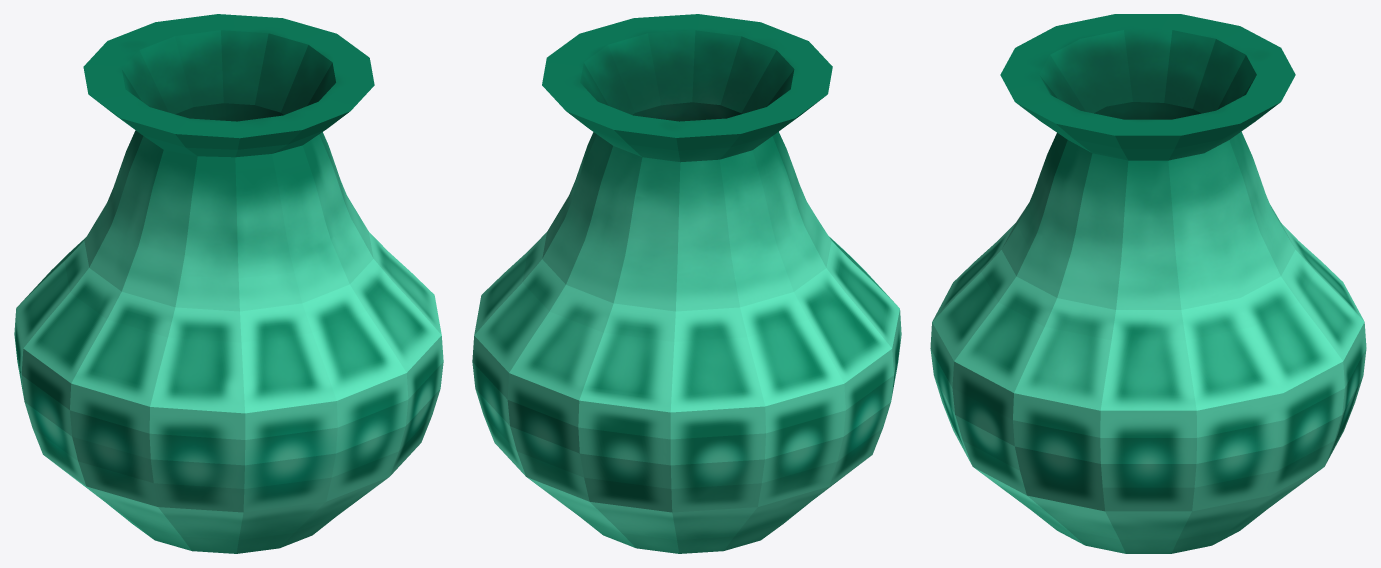
File: BaseVase.fbx
3 views of the same model, side by side, from view 1: azimuth 30°, elevation 25°; view 2: azimuth 150°, elevation 25°; view 3: azimuth 270°, elevation 25° (orthographic).
Visible parts, largest first — view 1: Pot; view 2: Pot; view 3: Pot.
Part boxes in pixels (bbox=[...]): Pot: bbox=[14, 14, 443, 553]; Pot: bbox=[472, 14, 901, 553]; Pot: bbox=[930, 14, 1366, 553].
Size of the model in its own units: 64.3 by 73.04 by 66.01.
